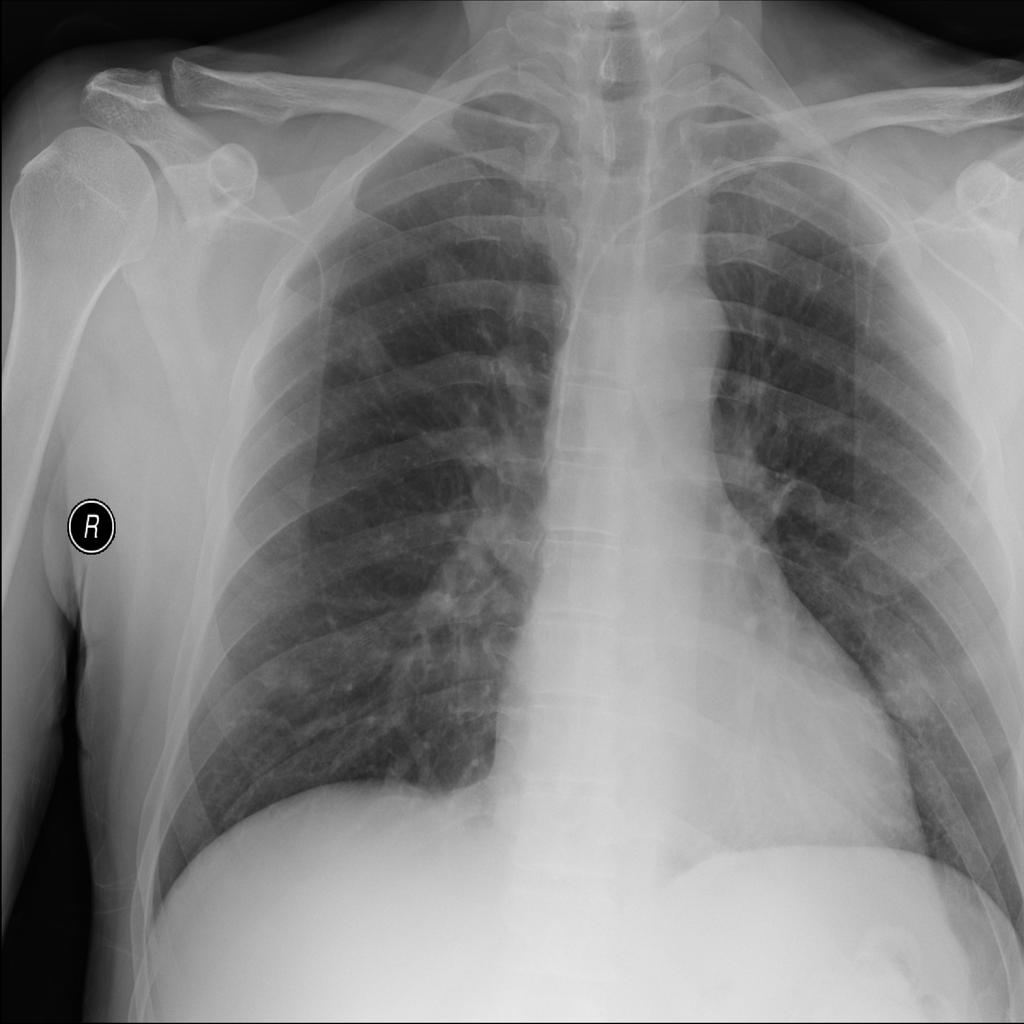nodule: (862, 627, 967, 737), (409, 240, 483, 313), (245, 638, 316, 708), (946, 623, 1006, 702)
